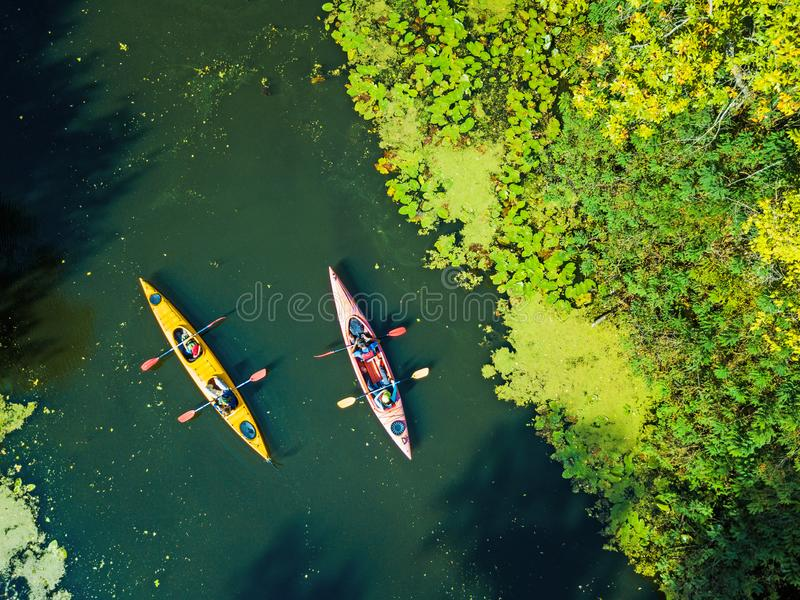kayaker: (133, 274, 279, 466), (312, 265, 432, 462)
